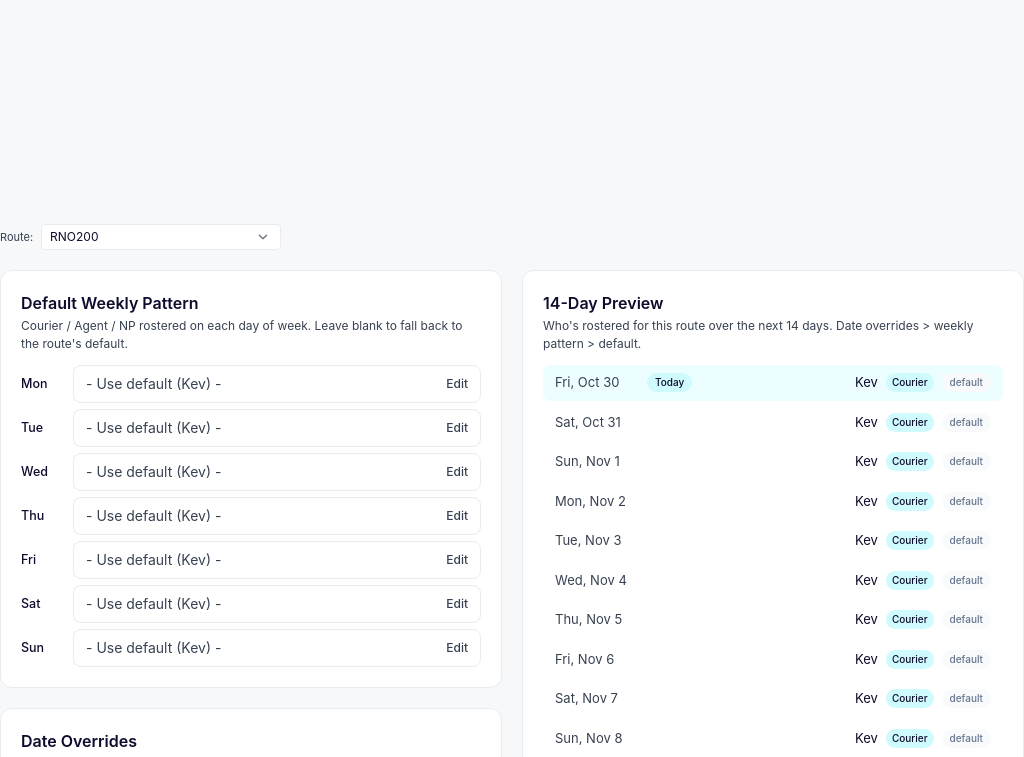
Test: RouteRosterTab › clicking Edit on a weekly row opens the picker modal
(page scrolled)
Grab any Edit button
Click the 1st button "Edit" at (457, 384), box left=446, top=375, right=468, bottom=393
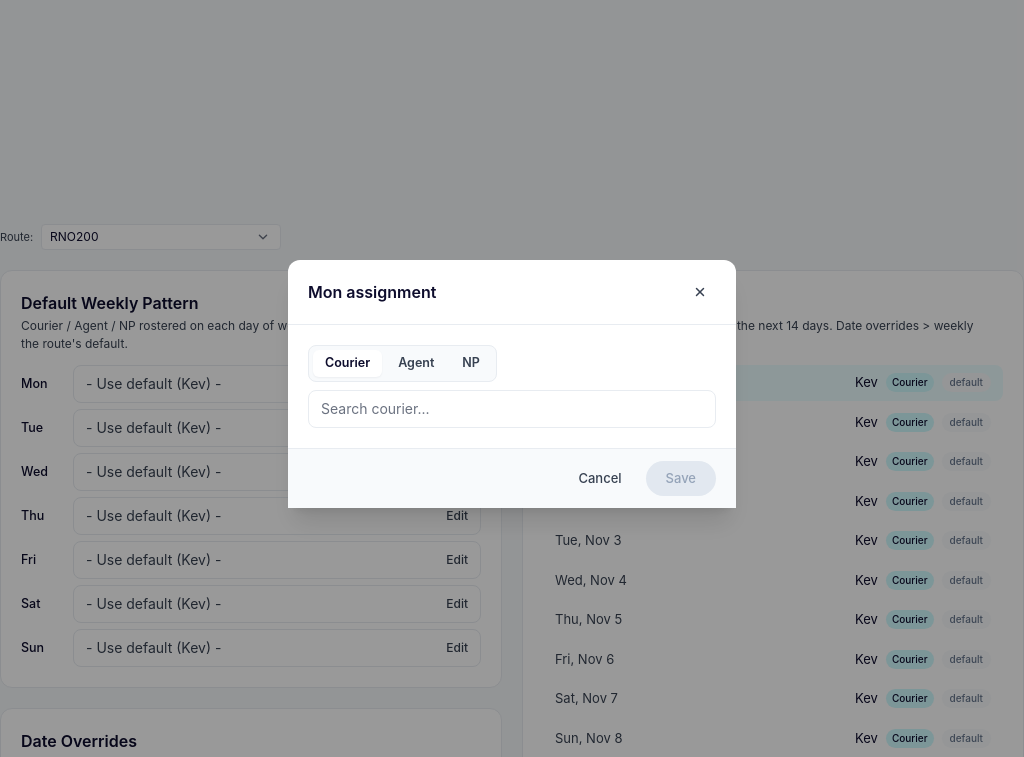
Now the heading "Mon assignment" is shown, box left=308, top=280, right=436, bottom=304
